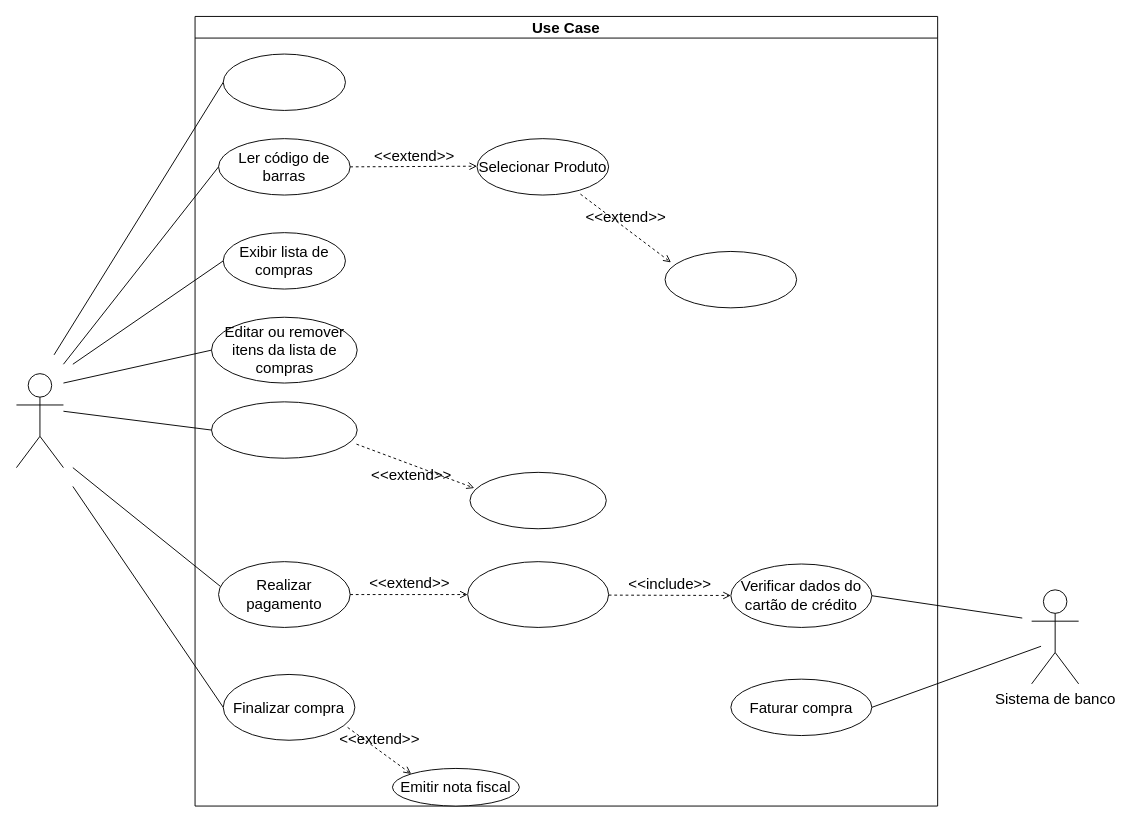
The diagram is 1132 pixels wide and 823 high, and some of its shapes have lost their labels. The box of each missing label's shape, as (x1, y1, x2, y2) in pixels:
Calcular preço das hortifrutis: (664, 251, 797, 308)
Calcular preço total: (469, 471, 606, 529)
Cliente: (16, 373, 63, 468)
Colocar produtos na cesta de pesagem: (211, 401, 357, 458)
Iniciar Compra: (222, 53, 345, 110)
Preencher dados do cartão de crédito: (467, 561, 609, 627)
